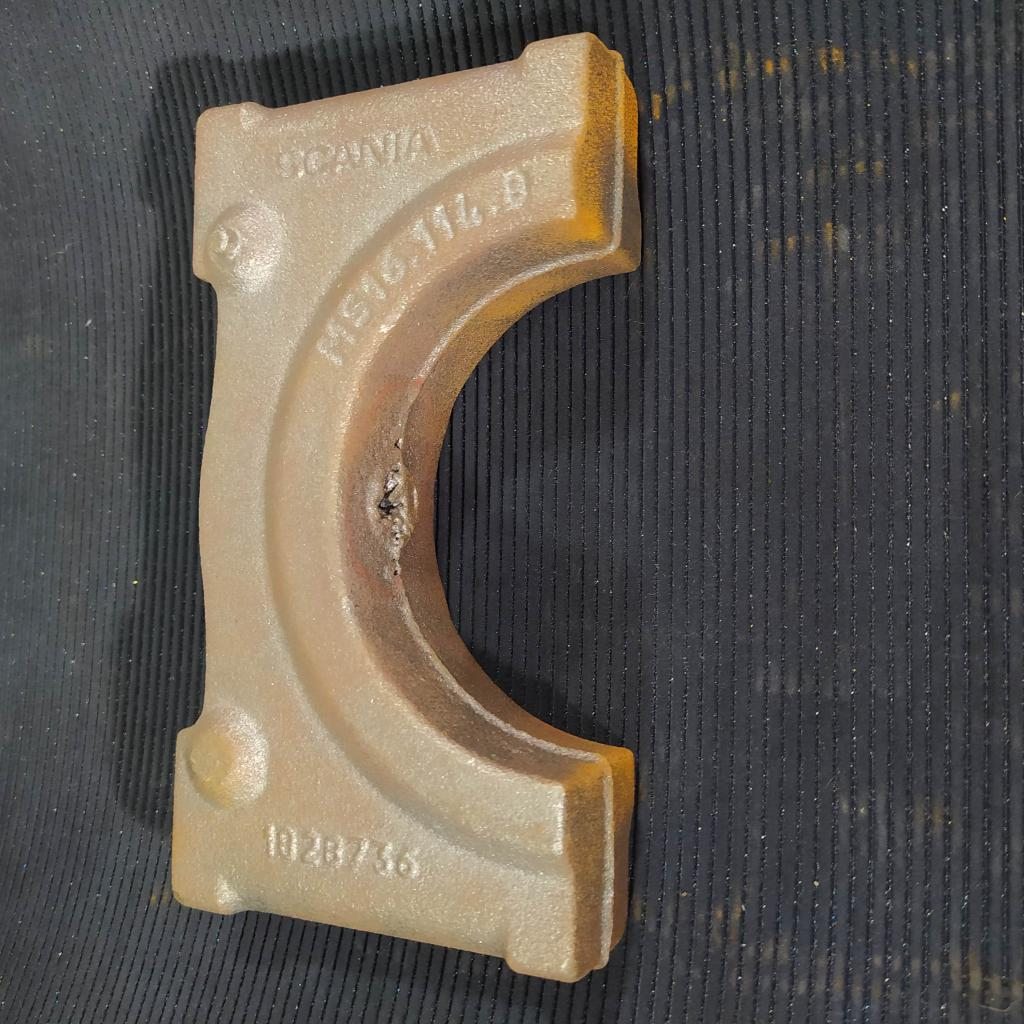buraco: (376, 465, 404, 550), (391, 436, 404, 457), (393, 570, 399, 579)
